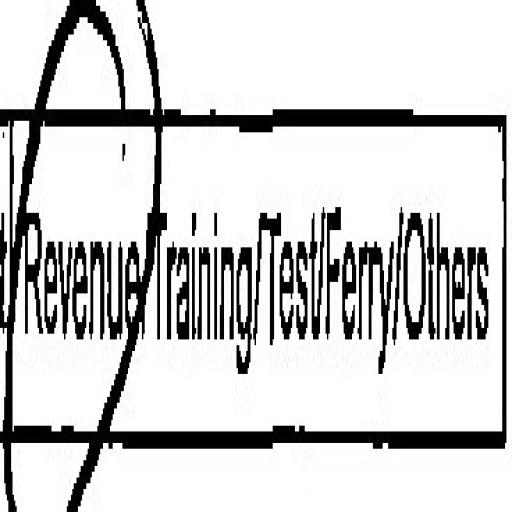check: (0, 0, 152, 512)
